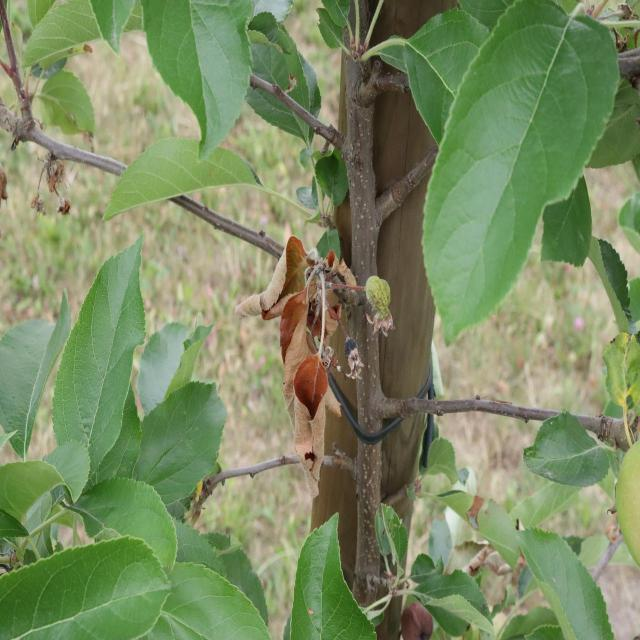-FireBlight-: (238, 227, 348, 502)
